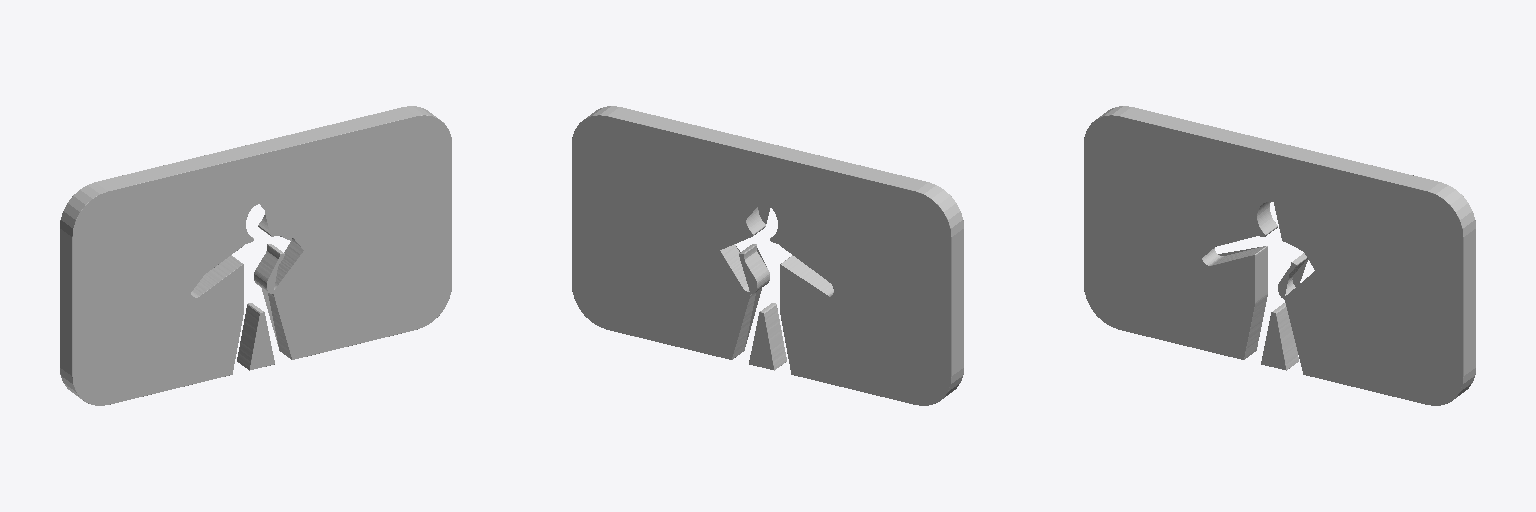
3 views of the same model, side by side, from view 1: azimuth 30°, elevation 25°; view 2: azimuth 150°, elevation 25°; view 3: azimuth 330°, elevation 25° (orthographic).
Parts seen in each view (by area): view 1: POSE4; view 2: POSE4; view 3: POSE4.
Boxes of the visible parts, <box> form: POSE4: <box>60,106,451,405</box>; POSE4: <box>572,106,963,405</box>; POSE4: <box>1084,106,1475,405</box>.
Bounding box in the file's own units: 12 × 6.45 × 0.7.